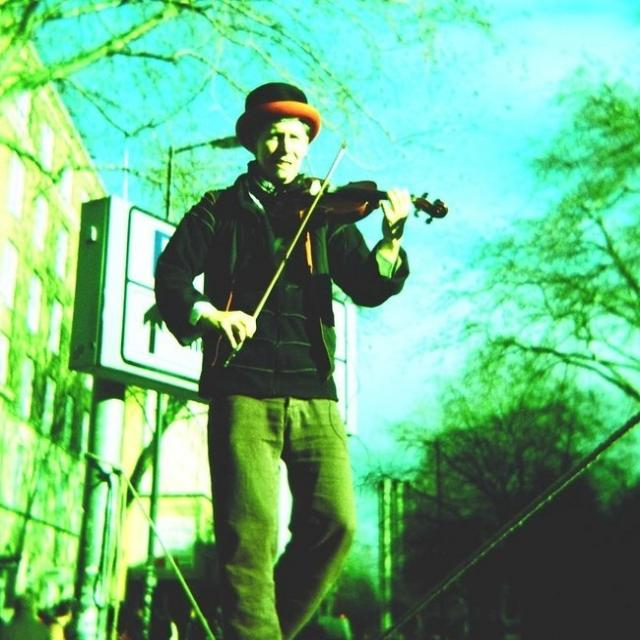violin: (272, 173, 450, 233)
